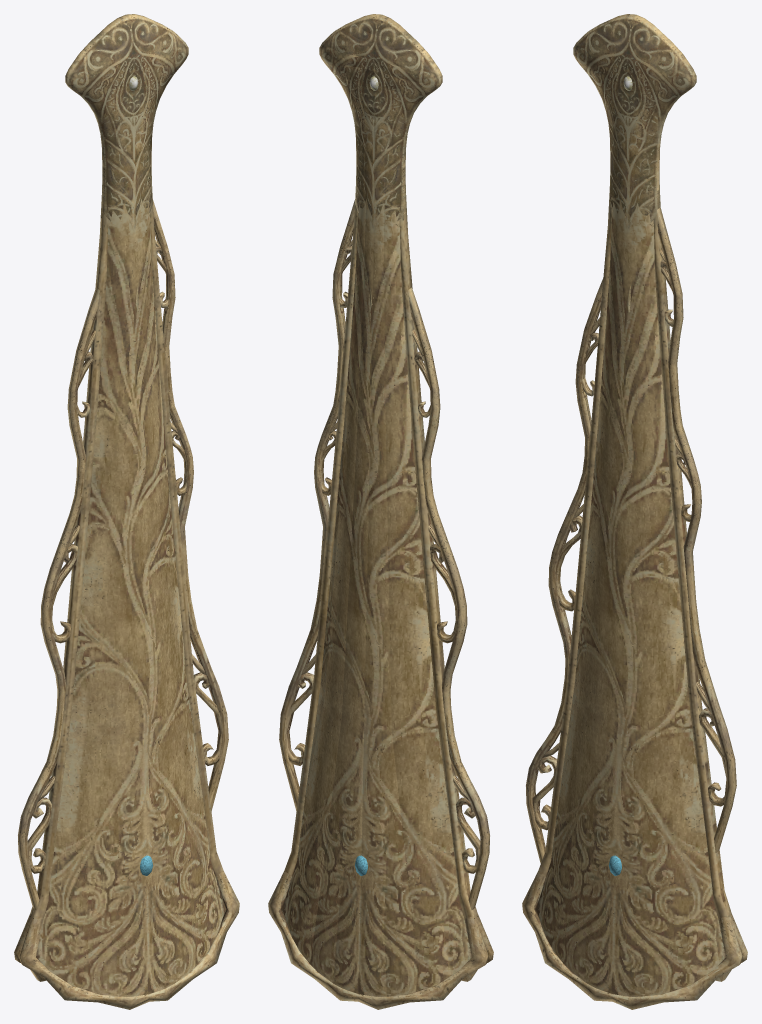
File: so_pd_glintstonekrissheath.glb
The picture shows the model from 3 angles, left to right: view 1: azimuth 30°, elevation 25°; view 2: azimuth 150°, elevation 25°; view 3: azimuth 330°, elevation 25°; orthographic projection.
Parts seen in each view (by area): view 1: WP_A_0116_1; view 2: WP_A_0116_1; view 3: WP_A_0116_1.
Boxes of the visible parts, x1,y1,x2,y2 form: WP_A_0116_1: [14, 14, 239, 1009]; WP_A_0116_1: [268, 14, 493, 1009]; WP_A_0116_1: [522, 14, 747, 1009].
Size of the model in its own units: 7.45 by 31.65 by 2.66.
Materials: 1 (1 with a texture image).
